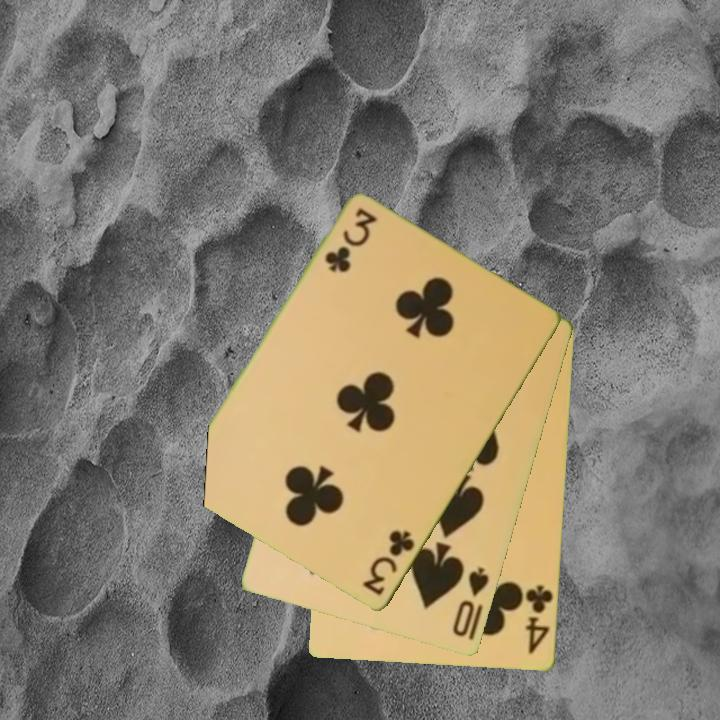10s: (449, 564, 492, 640)
3c: (359, 526, 418, 599), (321, 204, 378, 276)
4c: (522, 582, 556, 657)
